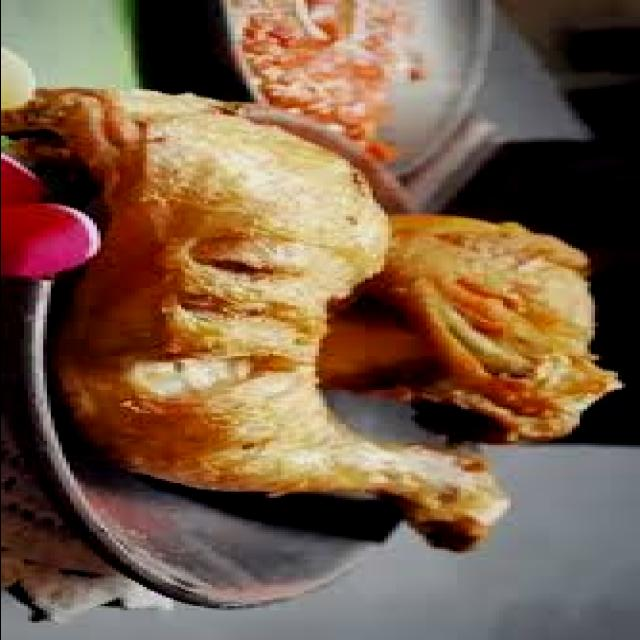ayam goreng: (0, 89, 510, 553)
